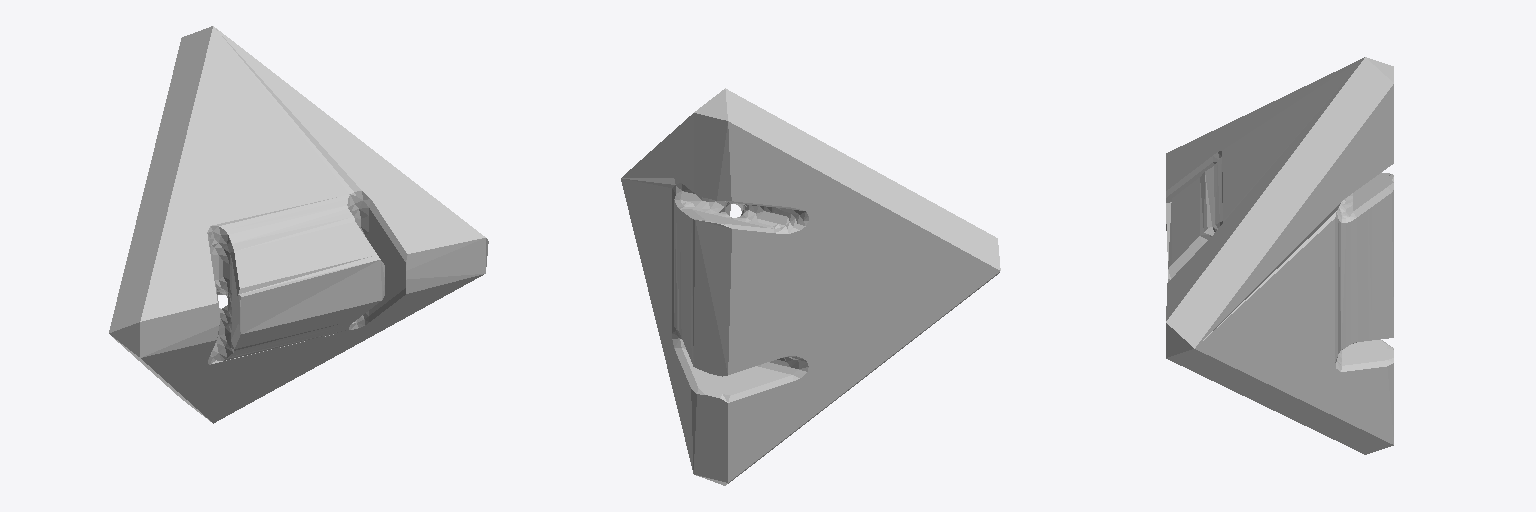
File: spacebriccorded.obj
3 views of the same model, side by side, from view 1: azimuth 30°, elevation 25°; view 2: azimuth 150°, elevation 25°; view 3: azimuth 270°, elevation 25° (orthographic).
Parts seen in each view (by area): view 1: Cube_Cube.002; view 2: Cube_Cube.002; view 3: Cube_Cube.002.
Boxes of the visible parts, x1,y1,x2,y2 form: Cube_Cube.002: [109, 26, 488, 423]; Cube_Cube.002: [621, 88, 1000, 485]; Cube_Cube.002: [1166, 57, 1393, 454].
Bounding box in the file's own units: 3.27 × 3.27 × 1.7.